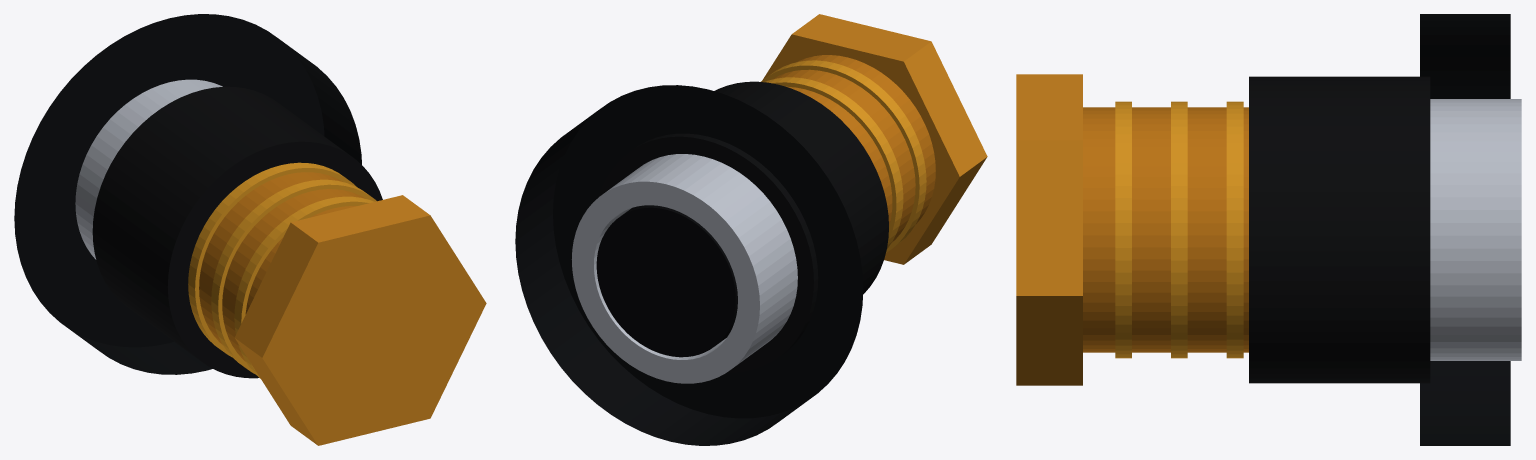
File: JackConnector_Black.fbx
3 views of the same model, side by side, from view 1: azimuth 30°, elevation 25°; view 2: azimuth 150°, elevation 25°; view 3: azimuth 270°, elevation 25° (orthographic). The views are drawn at different scales.
Parts seen in each view (by area): view 1: HexNut, ColorCollar, RearHousing, BrassBarrel, MetalRim, ThreadRidge1, ThreadRidge2, ThreadRidge3; view 2: ColorCollar, MetalRim, RearHousing, Socket, HexNut, BrassBarrel, ThreadRidge3, ThreadRidge2; view 3: RearHousing, BrassBarrel, MetalRim, HexNut, ColorCollar, ThreadRidge1, ThreadRidge2, ThreadRidge3.
Boxes of the visible parts, left/top/right/bottom form: HexNut: left=234, top=195, right=486, bottom=445; ColorCollar: left=14, top=14, right=361, bottom=374; RearHousing: left=92, top=86, right=382, bottom=378; BrassBarrel: left=199, top=172, right=365, bottom=361; MetalRim: left=75, top=79, right=222, bottom=259; ThreadRidge1: left=188, top=162, right=357, bottom=357; ThreadRidge2: left=211, top=179, right=376, bottom=373; ThreadRidge3: left=234, top=196, right=374, bottom=378; ColorCollar: left=515, top=85, right=863, bottom=445; MetalRim: left=571, top=154, right=797, bottom=383; RearHousing: left=598, top=81, right=888, bottom=373; Socket: left=596, top=205, right=737, bottom=357; HexNut: left=763, top=14, right=987, bottom=264; BrassBarrel: left=772, top=55, right=935, bottom=242; ThreadRidge3: left=761, top=60, right=926, bottom=252; ThreadRidge2: left=764, top=77, right=903, bottom=248; RearHousing: left=1249, top=76, right=1430, bottom=383; BrassBarrel: left=1083, top=107, right=1248, bottom=352; MetalRim: left=1430, top=99, right=1521, bottom=360; HexNut: left=1016, top=74, right=1082, bottom=385; ColorCollar: left=1420, top=14, right=1510, bottom=445; ThreadRidge1: left=1226, top=101, right=1243, bottom=358; ThreadRidge2: left=1171, top=101, right=1187, bottom=358; ThreadRidge3: left=1115, top=101, right=1131, bottom=358.
Size of the model in its own units: 0.031 by 0.031 by 0.0363.
